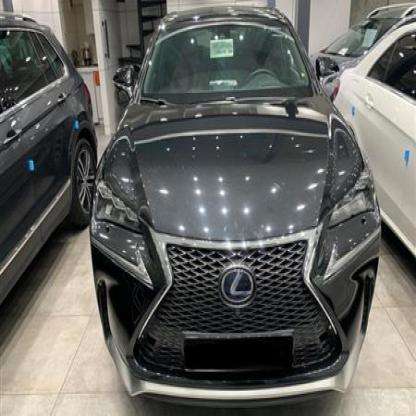Car: (99, 9, 382, 416), (0, 13, 89, 323), (329, 21, 416, 259)
